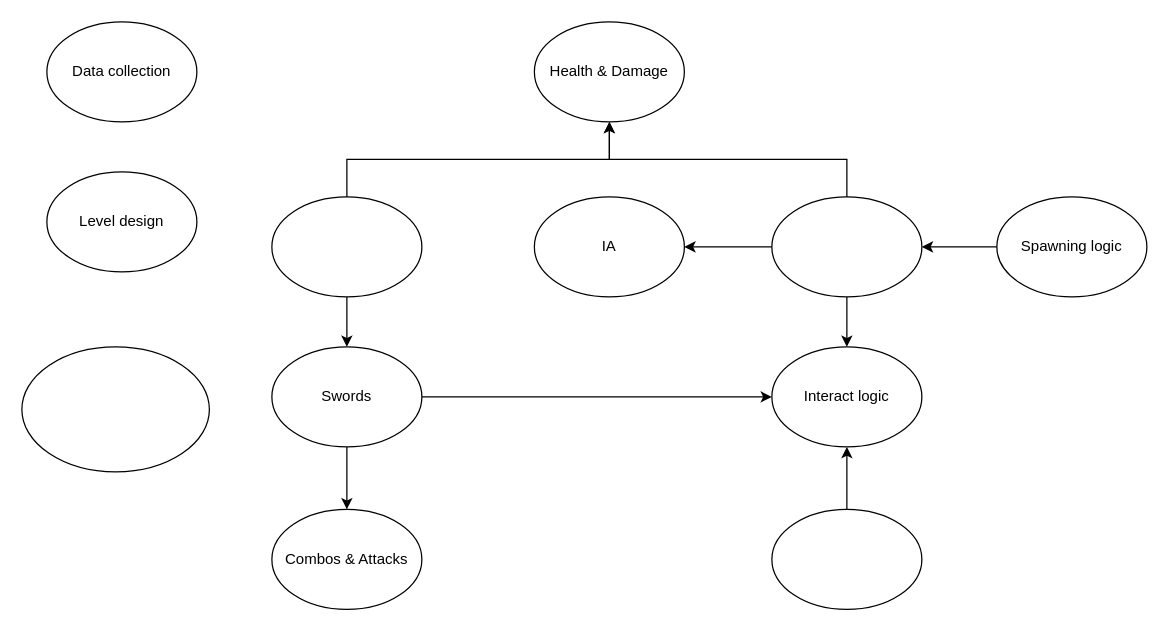
Some shapes in this 1169 by 631 pixel diagram are drawn without their labels. Here are the shapes that lost their labels. From the top down, the centre of each, then its label:
the point at 346,246: Character
the point at 846,246: Ennemies
the point at 115,409: TBD: Power ups ? Rogue like ? Linear mission ? Wave survival ?
the point at 846,558: Interactibles
